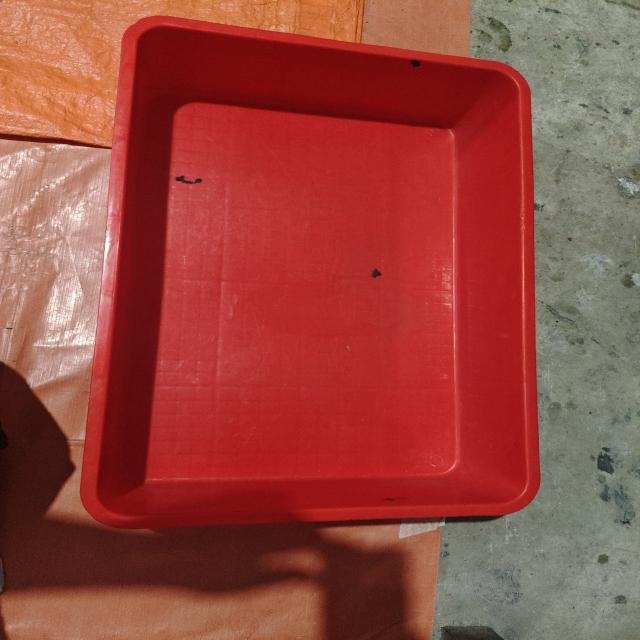red plastic box: (80, 15, 540, 530)
